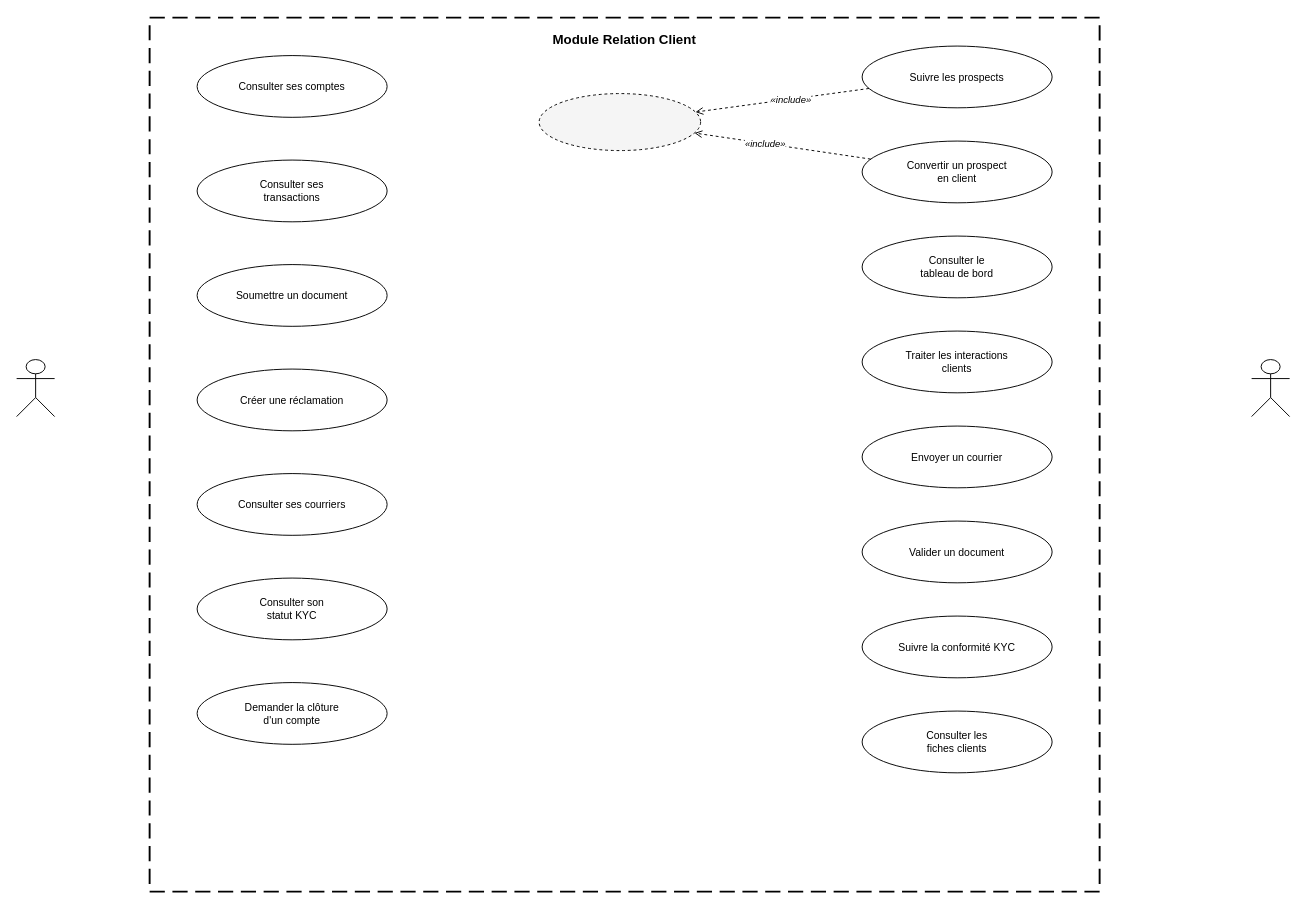
Some shapes in this 1315 by 908 pixel diagram are drawn without their labels. The shapes that lost their labels are listed below. From the top down, each one's centre as x and y in pixels, then its label:
At [619,122]: "Calculer le score IA".
At [35,388]: "Client".
At [1270,388]: "Chargé de clientèle".
